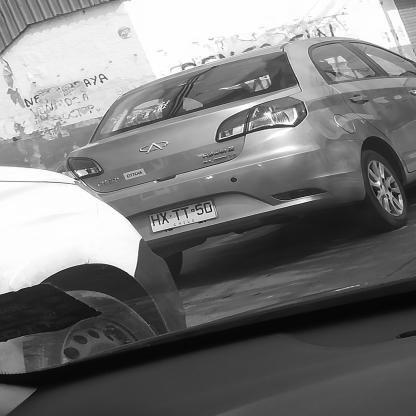Patente: (146, 199, 220, 235)
